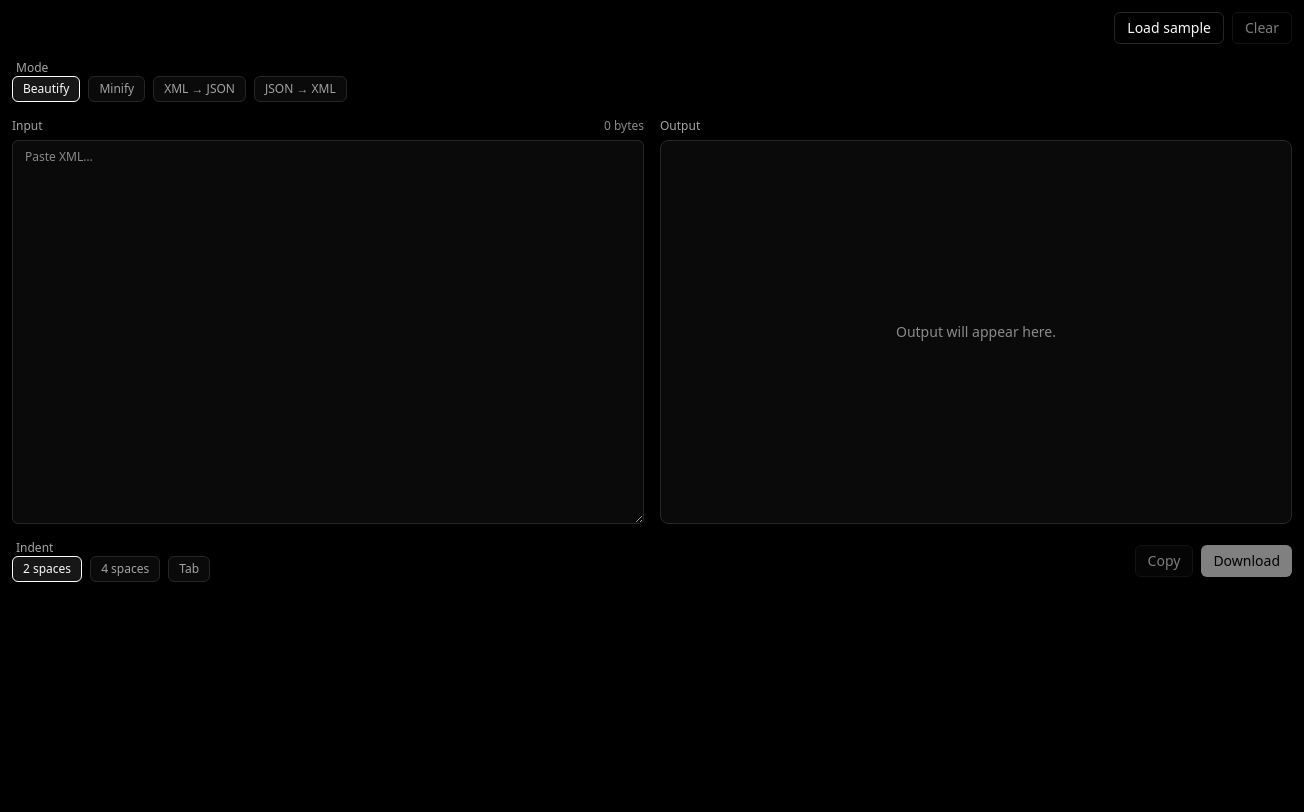
Test case: XmlFormatTool › hides the indent control in minify mode
The image size is (1304, 812).
expect the text "Indent" is shown: met, box [16,539,53,556]
Click the radio button "Minify": (117, 89) [88,76,145,102]
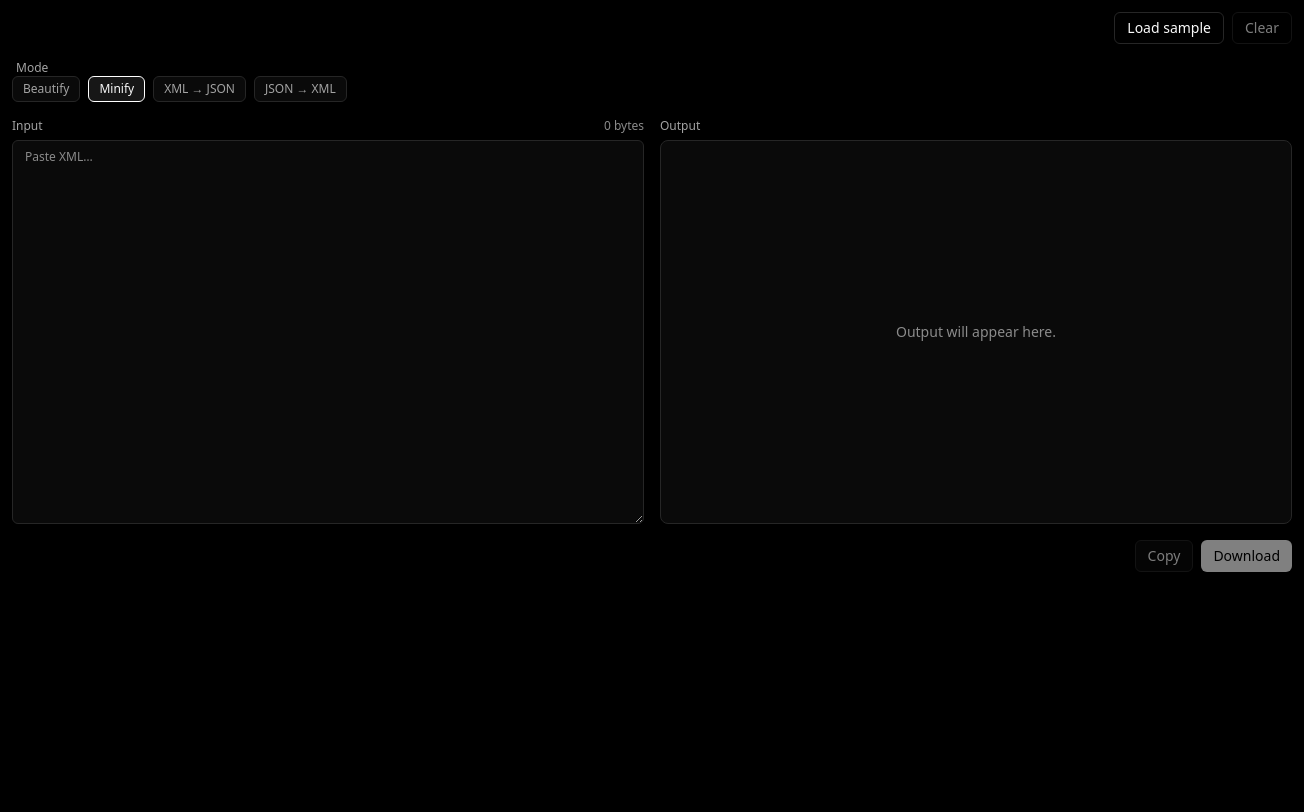
expect the text "Indent" is gone: met
